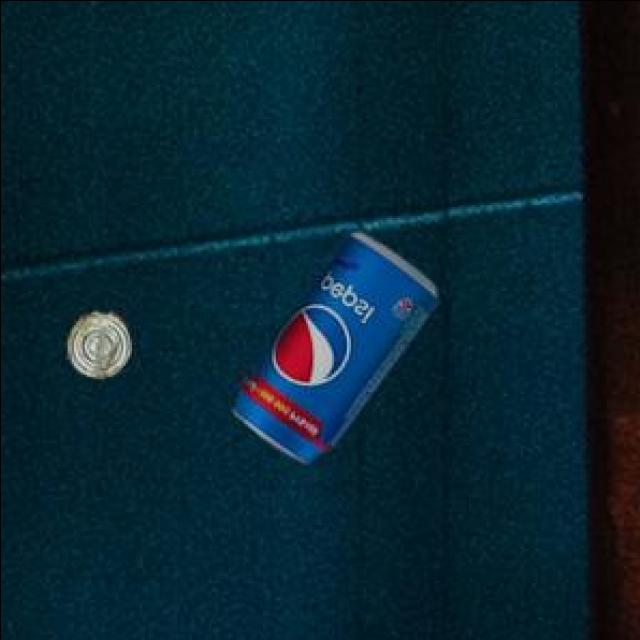logam: (237, 229, 439, 459), (70, 308, 132, 375)
